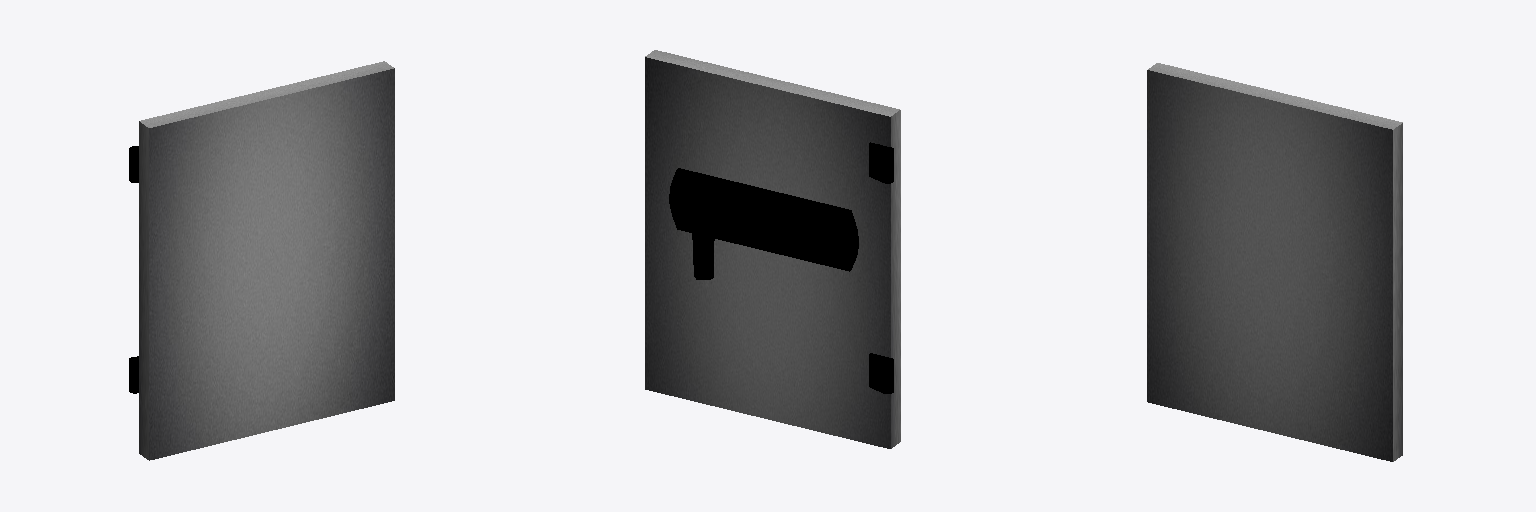
3 views of the same model, side by side, from view 1: azimuth 30°, elevation 25°; view 2: azimuth 150°, elevation 25°; view 3: azimuth 330°, elevation 25° (orthographic).
Parts seen in each view (by area): view 1: door_cajaFuerte:polySurface649; view 2: door_cajaFuerte:polySurface649; view 3: door_cajaFuerte:polySurface649.
Part boxes in pixels (x1,y1,x2,y2): door_cajaFuerte:polySurface649: (129, 61, 394, 460); door_cajaFuerte:polySurface649: (645, 50, 900, 448); door_cajaFuerte:polySurface649: (1147, 63, 1402, 461).
Size of the model in its own units: 1.88 by 2.37 by 0.3316.
Materials: 2 (1 with a texture image).